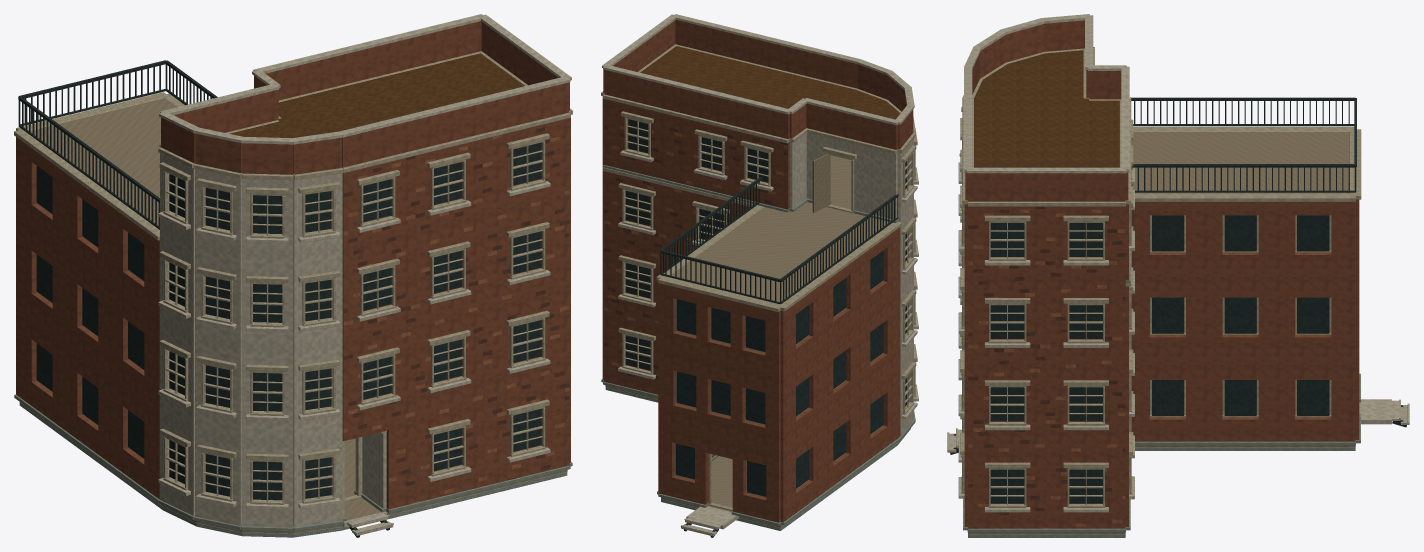
3 renders of one model, left to right at view 1: azimuth 30°, elevation 25°; view 2: azimuth 150°, elevation 25°; view 3: azimuth 270°, elevation 25°, orthographic. The views are drawn at different scales.
Parts seen in each view (by area): view 1: A010-13_01_Wall_Shell, A010-13_02_Masonry_Facing, A010-13_06_Glazing, A010-13_14_Parapets, A010-13_04_Architectural_Trim, A010-13_03_Window_Door_Frames, A010-13_11_Roof_Curved_Flat, A010-13_11_Roof_Return_Terrace, A010-13_09_Railings, A010-13_14_Parapet_Caps, A010-13_07_Floors, A010-13_00_Foundation; view 2: A010-13_01_Wall_Shell, A010-13_02_Masonry_Facing, A010-13_14_Parapets, A010-13_06_Glazing, A010-13_04_Architectural_Trim, A010-13_11_Roof_Return_Terrace, A010-13_11_Roof_Curved_Flat, A010-13_03_Window_Door_Frames, A010-13_09_Railings, A010-13_14_Parapet_Caps, A010-13_07_Floors, A010-13_05_Door_Leaf_00 (+2 smaller); view 3: A010-13_01_Wall_Shell, A010-13_02_Masonry_Facing, A010-13_06_Glazing, A010-13_04_Architectural_Trim, A010-13_11_Roof_Curved_Flat, A010-13_11_Roof_Return_Terrace, A010-13_03_Window_Door_Frames, A010-13_14_Parapets, A010-13_09_Railings, A010-13_14_Parapet_Caps, A010-13_07_Floors, A010-13_00_Foundation (+1 smaller).
Boxes of the visible parts, left/top/right/bottom form: A010-13_01_Wall_Shell: left=16, top=118, right=570, bottom=527; A010-13_02_Masonry_Facing: left=343, top=118, right=569, bottom=509; A010-13_06_Glazing: left=36, top=143, right=540, bottom=500; A010-13_14_Parapets: left=161, top=21, right=569, bottom=174; A010-13_04_Architectural_Trim: left=14, top=51, right=572, bottom=531; A010-13_03_Window_Door_Frames: left=36, top=140, right=545, bottom=504; A010-13_11_Roof_Curved_Flat: left=229, top=53, right=524, bottom=138; A010-13_11_Roof_Return_Terrace: left=30, top=98, right=176, bottom=225; A010-13_09_Railings: left=18, top=60, right=217, bottom=229; A010-13_14_Parapet_Caps: left=159, top=14, right=571, bottom=144; A010-13_07_Floors: left=160, top=191, right=567, bottom=533; A010-13_00_Foundation: left=19, top=402, right=567, bottom=537; A010-13_01_Wall_Shell: left=602, top=98, right=913, bottom=522; A010-13_02_Masonry_Facing: left=604, top=99, right=787, bottom=457; A010-13_14_Parapets: left=603, top=20, right=913, bottom=149; A010-13_06_Glazing: left=626, top=119, right=908, bottom=496; A010-13_04_Architectural_Trim: left=601, top=44, right=918, bottom=525; A010-13_11_Roof_Return_Terrace: left=668, top=202, right=888, bottom=303; A010-13_11_Roof_Curved_Flat: left=640, top=46, right=900, bottom=119; A010-13_03_Window_Door_Frames: left=622, top=117, right=916, bottom=511; A010-13_09_Railings: left=660, top=176, right=898, bottom=304; A010-13_14_Parapet_Caps: left=602, top=14, right=914, bottom=125; A010-13_07_Floors: left=605, top=155, right=851, bottom=529; A010-13_05_Door_Leaf_00: left=812, top=154, right=830, bottom=212; A010-13_01_Wall_Shell: left=964, top=199, right=1359, bottom=528; A010-13_02_Masonry_Facing: left=968, top=206, right=1125, bottom=528; A010-13_06_Glazing: left=990, top=215, right=1329, bottom=503; A010-13_04_Architectural_Trim: left=958, top=47, right=1361, bottom=532; A010-13_11_Roof_Curved_Flat: left=974, top=50, right=1119, bottom=167; A010-13_11_Roof_Return_Terrace: left=1131, top=132, right=1349, bottom=193; A010-13_03_Window_Door_Frames: left=961, top=140, right=1331, bottom=507; A010-13_14_Parapets: left=965, top=20, right=1128, bottom=201; A010-13_09_Railings: left=1130, top=97, right=1356, bottom=192; A010-13_14_Parapet_Caps: left=964, top=14, right=1129, bottom=173; A010-13_07_Floors: left=968, top=399, right=1391, bottom=534; A010-13_00_Foundation: left=968, top=447, right=1355, bottom=537.
Bounding box in the file's own units: 12.59 × 13.51 × 15.28.
11 materials, 11 textured.
